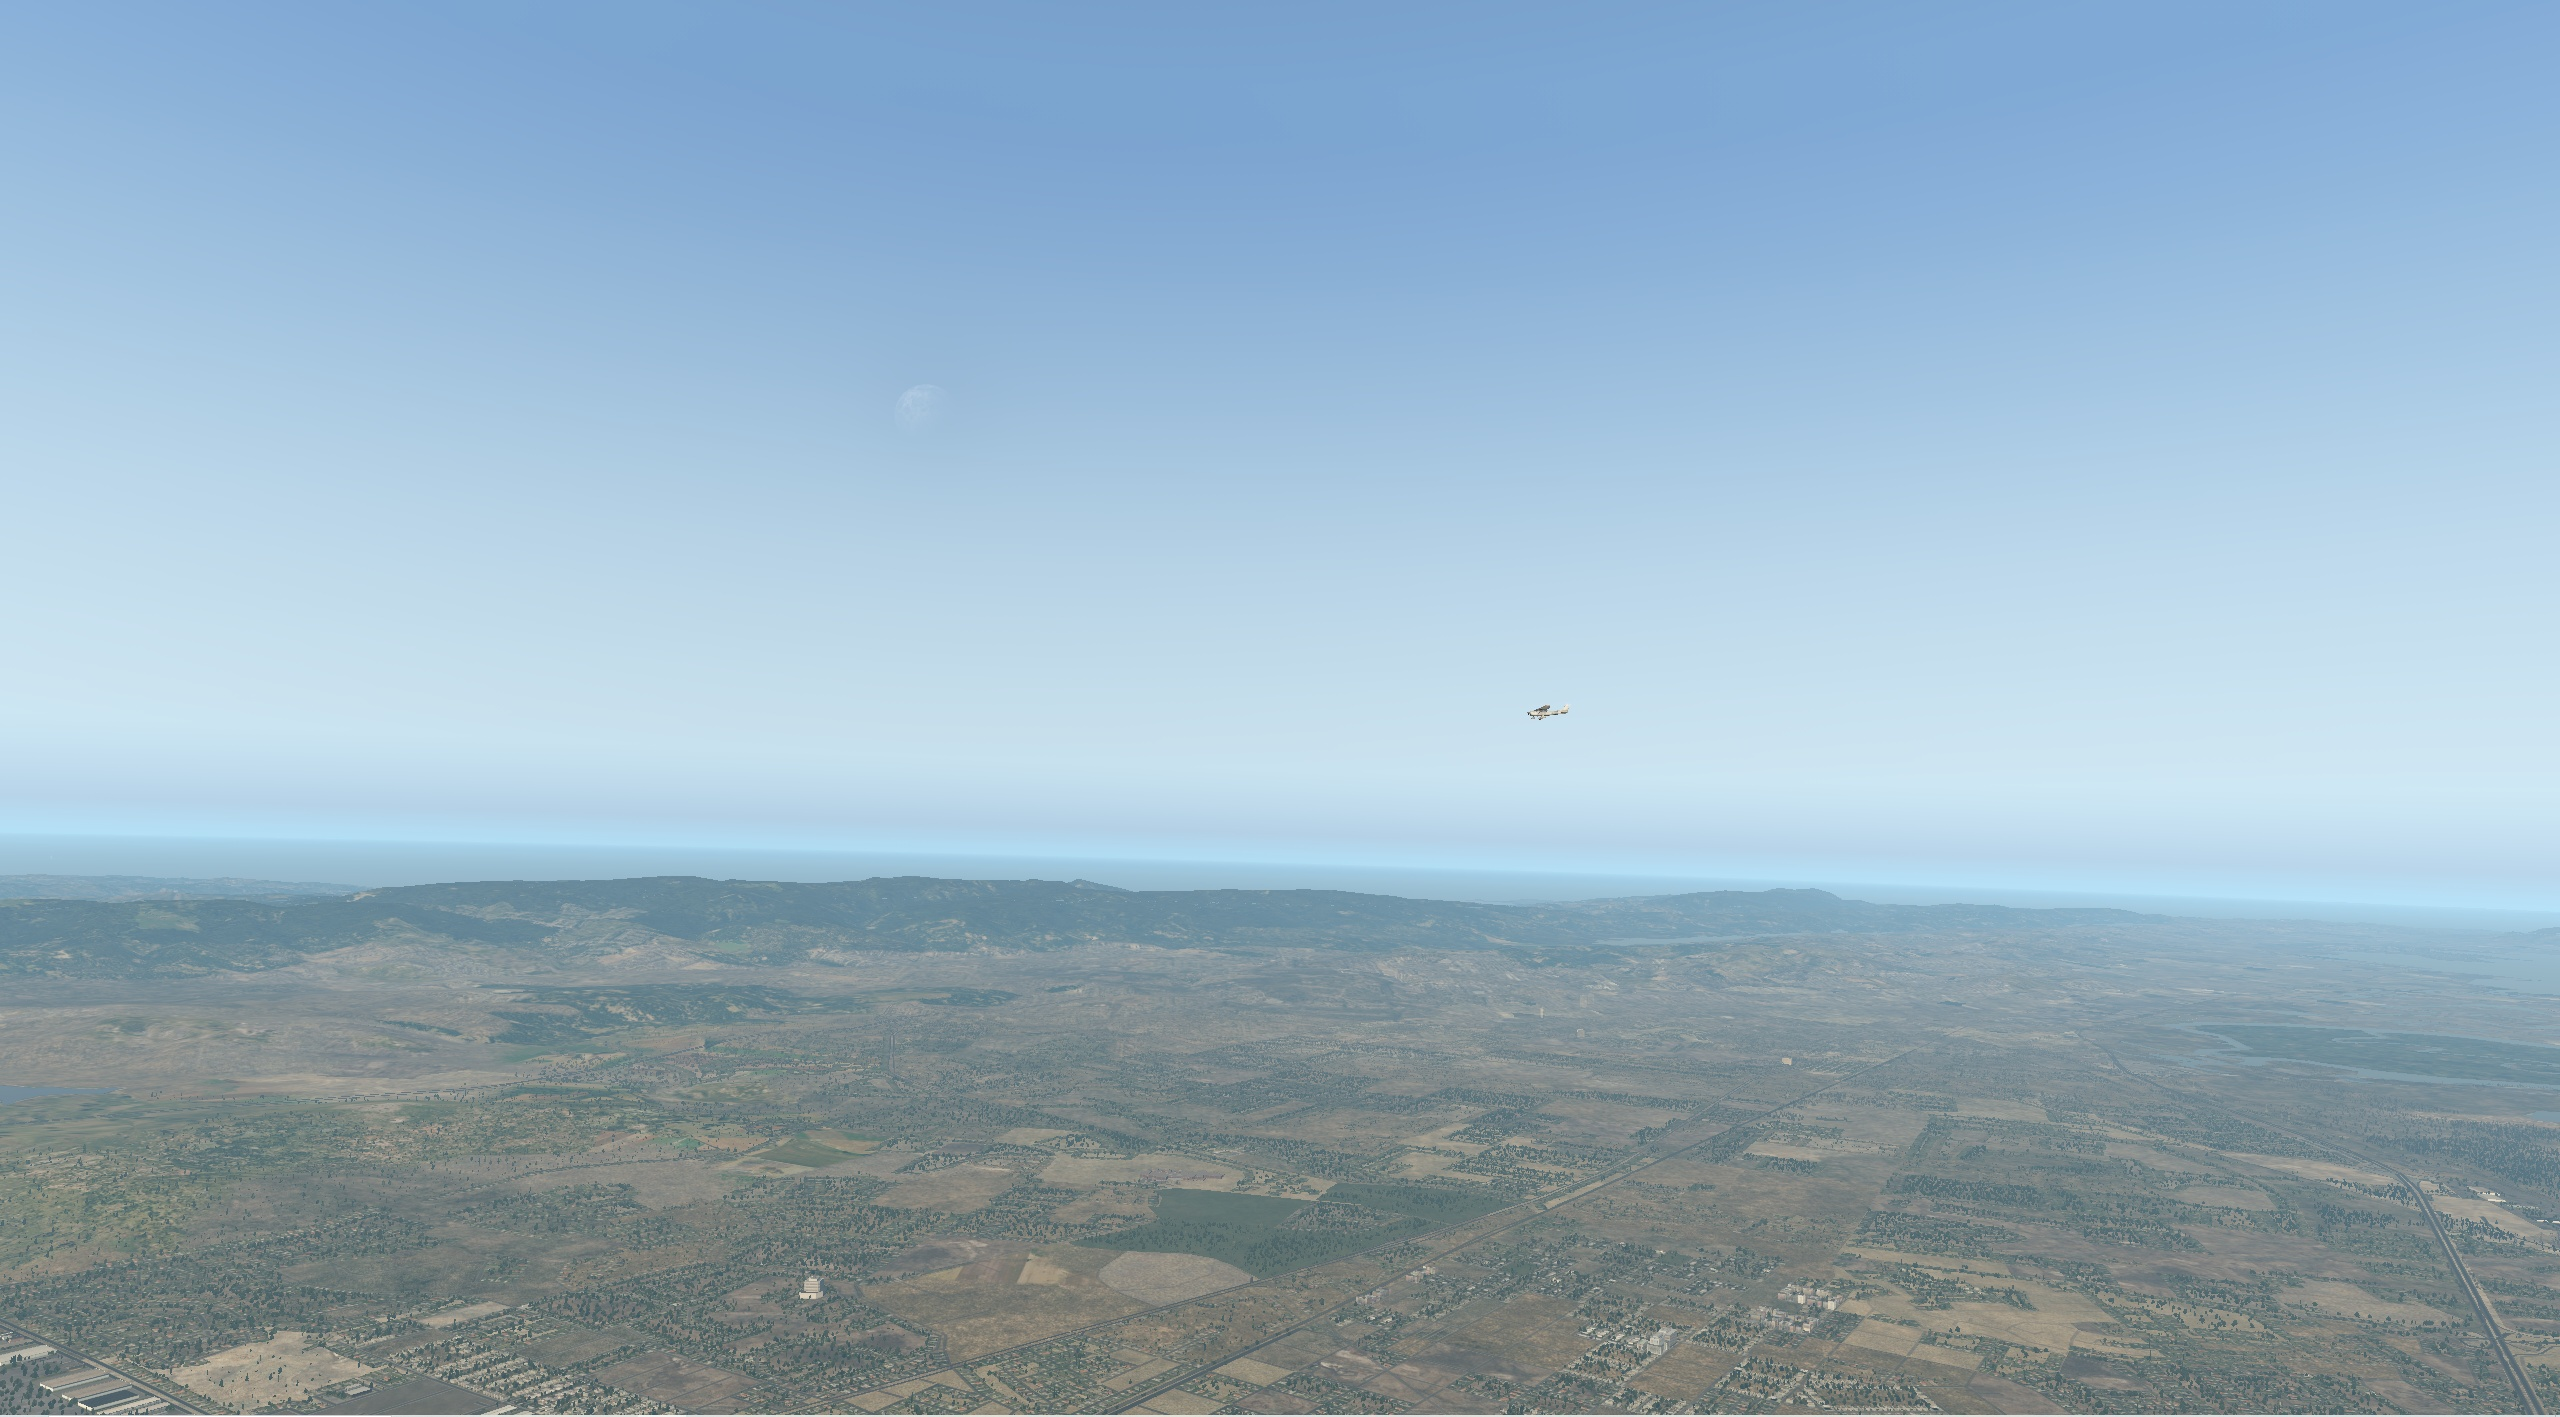aircraft: (1506, 700, 1574, 726)
